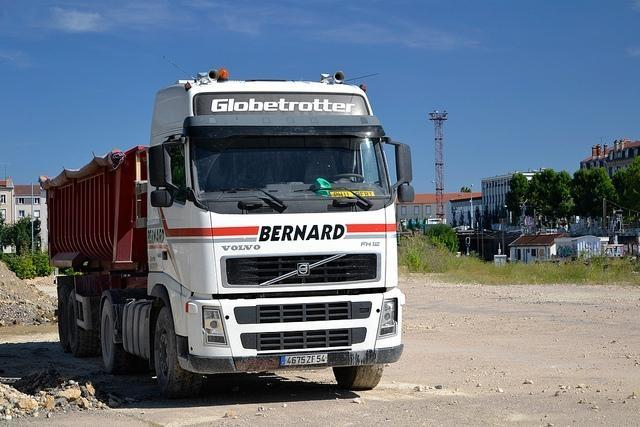truck: (38, 56, 416, 398), (602, 244, 626, 259)
